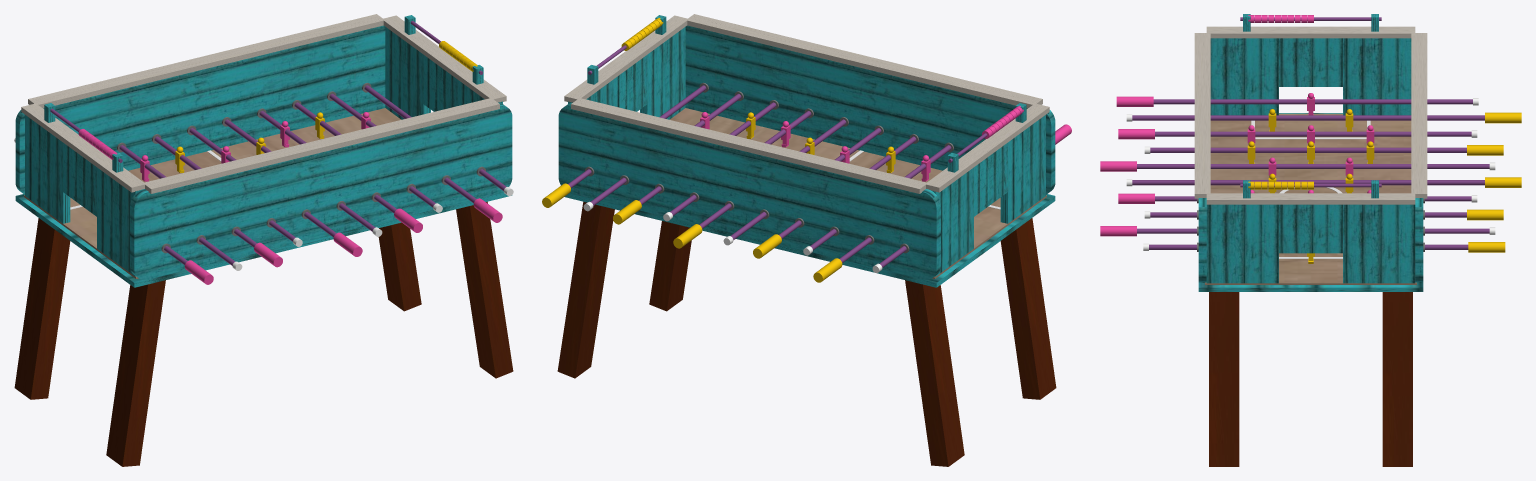
Rendered from Sports_Table_football__0005.glb.
3 views of the same model, side by side, from view 1: azimuth 30°, elevation 25°; view 2: azimuth 150°, elevation 25°; view 3: azimuth 270°, elevation 25° (orthographic). The views are drawn at different scales.
Parts seen in each view (by area): view 1: cabinet::side_panel_0, cabinet::side_panel_1, cabinet::leg_0, cabinet::leg_1, cabinet::leg_2, cabinet::side_rim_0, cabinet::side_rim_1, cabinet::pitch, cabinet::end_wall_0_post_b, cabinet::cabinet_base, cabinet::end_wall_1_post_b, cabinet::end_wall_0_post_a (+8 smaller); view 2: cabinet::side_panel_1, cabinet::side_panel_0, cabinet::leg_1, cabinet::leg_0, cabinet::leg_3, cabinet::side_rim_1, cabinet::side_rim_0, cabinet::pitch, cabinet::end_wall_0_post_a, cabinet::cabinet_base, cabinet::end_wall_1_post_a, cabinet::end_wall_0_post_b (+6 smaller); view 3: cabinet::pitch, cabinet::end_wall_1_post_a, cabinet::end_wall_1_post_b, cabinet::leg_2, cabinet::leg_3, cabinet::end_wall_0_post_a, cabinet::end_wall_0_post_b, cabinet::end_wall_1_lintel, cabinet::end_wall_0_lintel, cabinet::side_rim_0, cabinet::side_rim_1, cabinet::end_rim_0 (+16 smaller).
Part boxes in pixels (x1,y1,x2,y2): cabinet::side_panel_0: (130,103,512,279); cabinet::side_panel_1: (15,25,385,194); cabinet::leg_0: (106,280,165,466); cabinet::leg_1: (14,218,70,399); cabinet::leg_2: (456,201,513,378); cabinet::side_rim_0: (144,98,499,193); cabinet::side_rim_1: (28,14,383,108); cabinet::pitch: (24,108,400,278); cabinet::end_wall_0_post_b: (25,115,70,223); cabinet::cabinet_base: (15,192,512,287); cabinet::end_wall_1_post_b: (385,27,430,119); cabinet::end_wall_0_post_a: (97,167,139,276); cabinet::side_panel_1: (558,103,940,279); cabinet::side_panel_0: (685,25,1055,194); cabinet::leg_1: (905,280,964,466); cabinet::leg_0: (1000,218,1056,399); cabinet::leg_3: (557,201,614,378); cabinet::side_rim_1: (571,98,926,193); cabinet::side_rim_0: (687,14,1042,108); cabinet::pitch: (670,108,1046,278); cabinet::end_wall_0_post_a: (1000,115,1045,223); cabinet::cabinet_base: (564,193,1055,287); cabinet::end_wall_1_post_a: (640,27,685,119); cabinet::end_wall_0_post_b: (931,167,973,276); cabinet::pitch: (1205,113,1416,284); cabinet::end_wall_1_post_a: (1206,204,1278,283); cabinet::end_wall_1_post_b: (1343,204,1415,283); cabinet::leg_2: (1209,292,1239,466); cabinet::leg_3: (1382,292,1412,466); cabinet::end_wall_0_post_a: (1210,38,1278,115); cabinet::end_wall_0_post_b: (1343,38,1411,115); cabinet::end_wall_1_lintel: (1279,204,1342,253); cabinet::end_wall_0_lintel: (1279,38,1342,86); cabinet::side_rim_0: (1194,33,1210,198); cabinet::side_rim_1: (1411,33,1427,198); cabinet::end_rim_0: (1206,26,1415,38).
Size of the model in its own units: 1.33 by 0.9636 by 1.31.
Materials: 18 (6 with a texture image).
